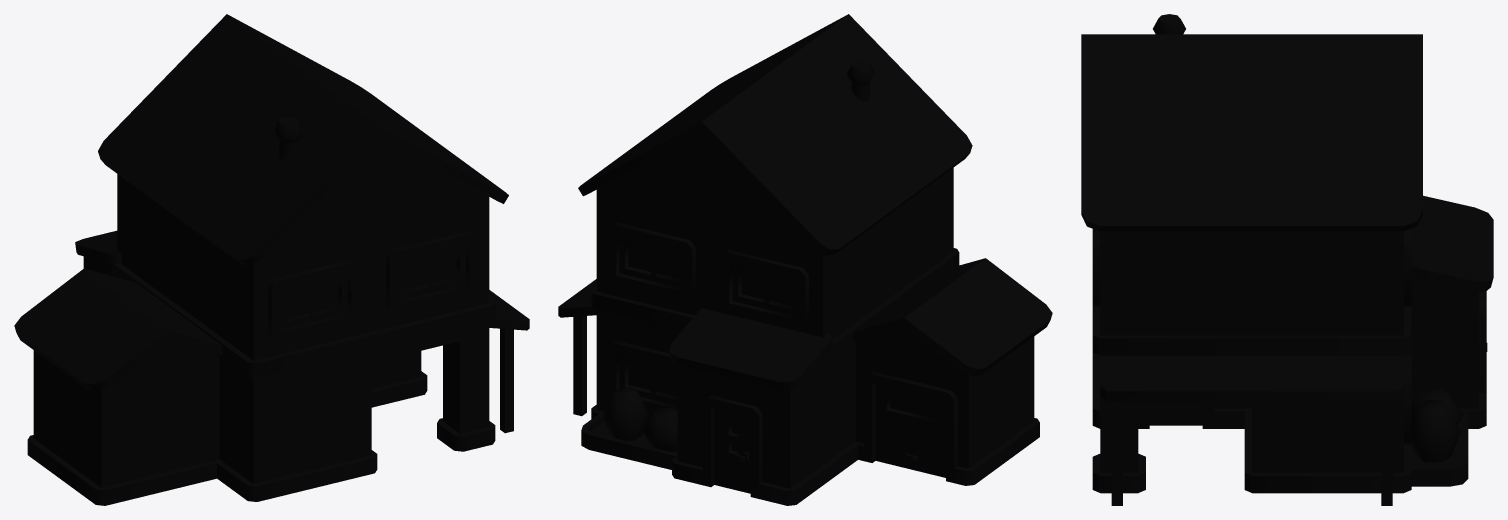
File: building-type-s.glb
3 views of the same model, side by side, from view 1: azimuth 30°, elevation 25°; view 2: azimuth 150°, elevation 25°; view 3: azimuth 270°, elevation 25° (orthographic). The views are drawn at different scales.
Visible parts, largest first — view 1: building-type-s; view 2: building-type-s; view 3: building-type-s.
Part boxes in pixels (box(x1,y1,x2,y2)): building-type-s: box(14, 14, 529, 505); building-type-s: box(558, 14, 1052, 505); building-type-s: box(1081, 14, 1493, 505).
Bounding box in the file's own units: 1.41 × 1.14 × 1.09.
1 material, 1 textured.
